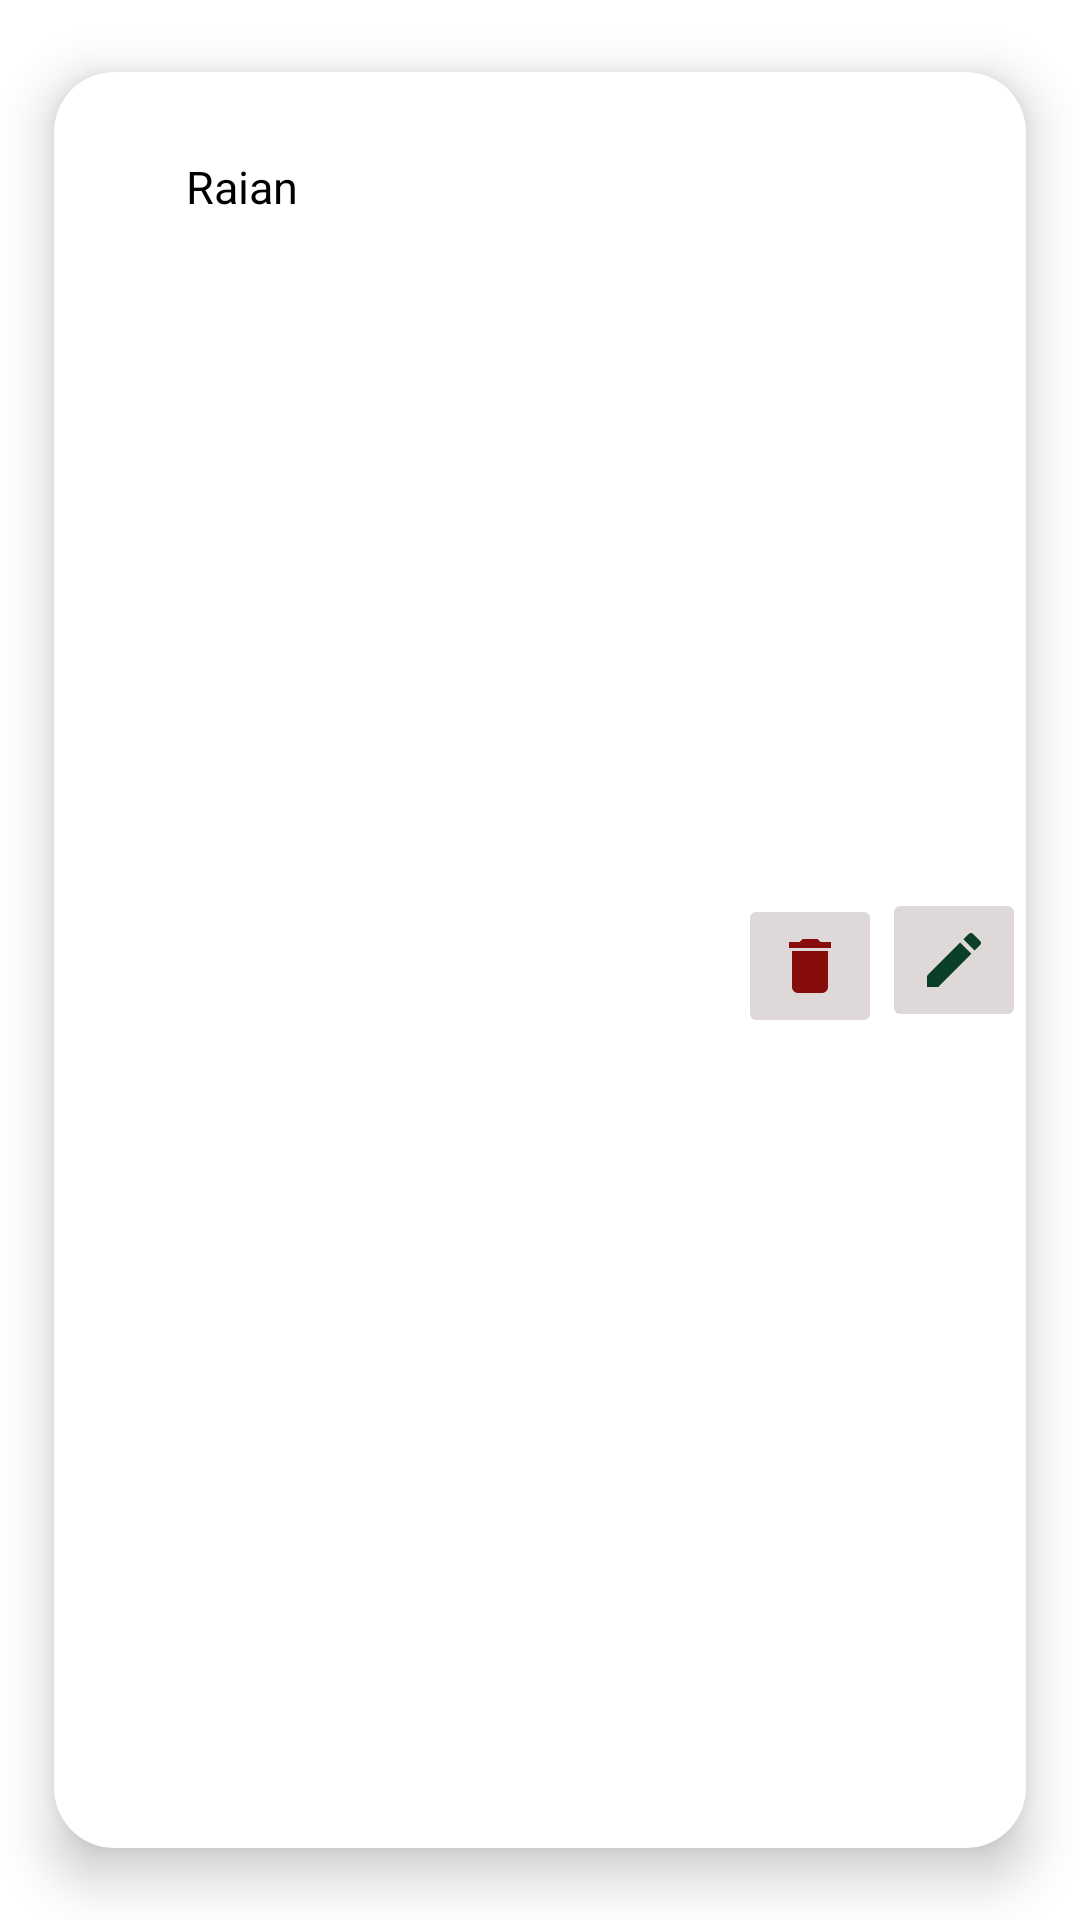

Named icons in this screenshot (1080px×1920px) and their centers, point (x, y):
delete: point (810, 966)
edit: point (954, 960)
